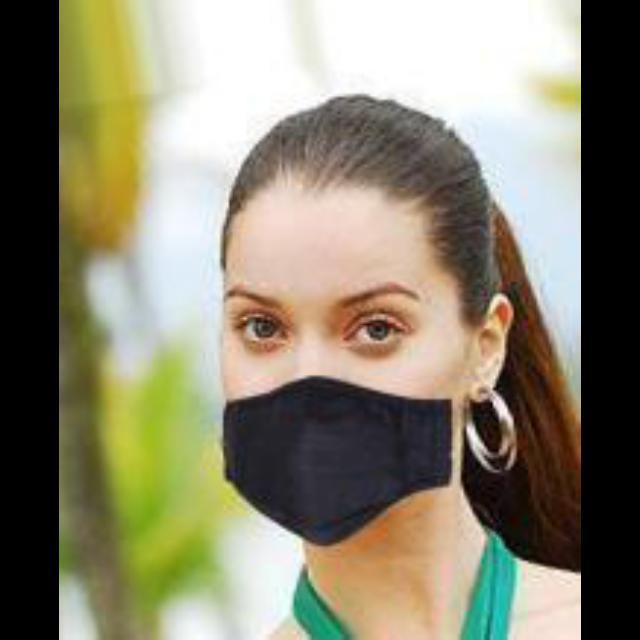suspicion: (199, 129, 495, 507)
